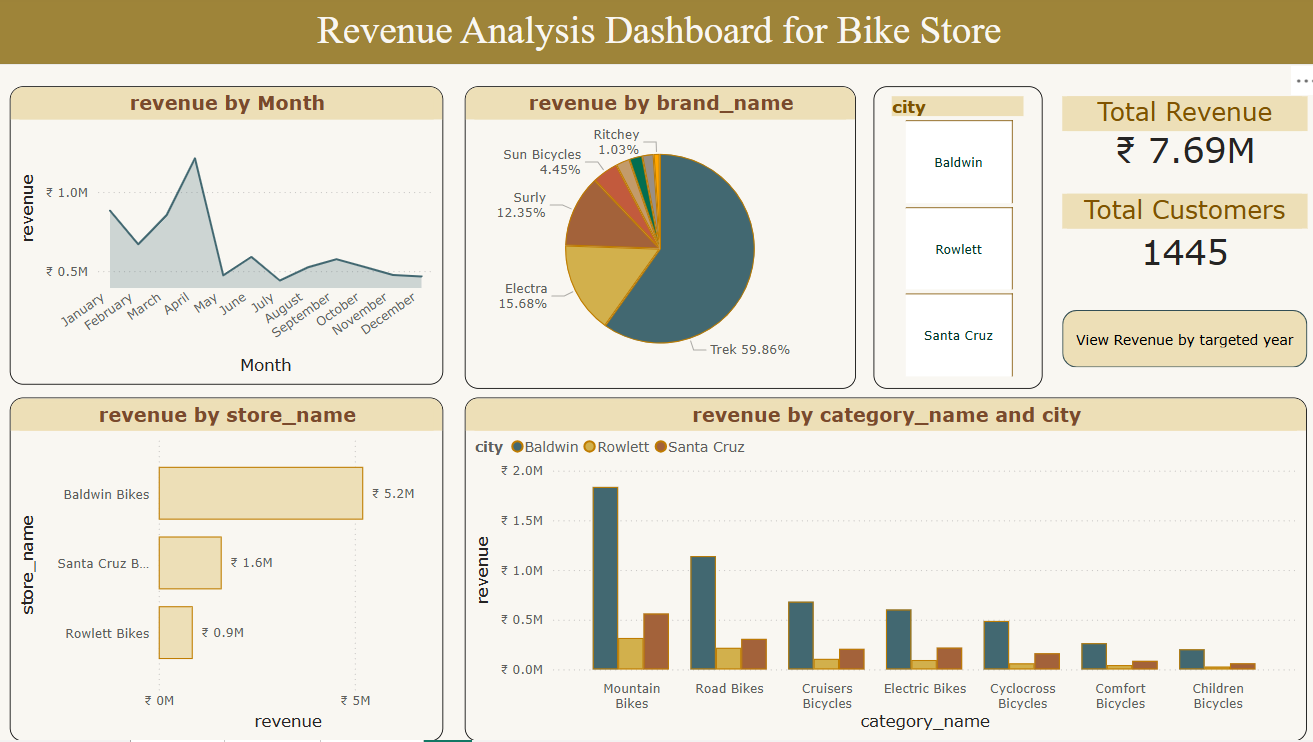

This screenshot's page, from the dashboard's own definition file:
{"tool":"powerbi","page":{"name":"Page 1","canvas":[1280,720],"ordinal":0},"visuals":[{"type":"barChart","fields":{"Y":["Table.revenue"],"Category":["store.store_name"]},"box":[13.3,388.5,418.6,331.8],"z":0},{"type":"clusteredColumnChart","fields":{"Category":["category.category_name"],"Y":["Table.revenue"],"Series":["store.city"]},"box":[452.4,388.5,813.1,331.8],"z":1000},{"type":"lineChart","fields":{"Category":["order.order_date.Variation.Date Hierarchy.Month","order.order_date.Variation.Date Hierarchy.Day"],"Y":["Table.revenue"]},"box":[13.3,88.1,418.6,288.3],"z":2000},{"type":"pieChart","fields":{"Y":["Table.revenue"],"Category":["Brands.brand_name"]},"box":[452.4,88.1,377.6,292],"z":3000},{"type":"slicer","fields":{"Values":["store.city"]},"box":[846.9,88.1,162.9,292],"z":4000},{"type":"card","title":"Total Revenue","fields":{"Values":["Table.revenue"]},"box":[1029.1,97.7,236.5,74.8],"z":5000},{"type":"card","title":"Total Customers","fields":{"Values":["Table.total_customers"]},"box":[1029.1,191.8,236.5,84.5],"z":6000},{"type":"shape","title":"Revenue view by target year","box":[1029.1,304,236.5,55.5],"z":7000},{"type":"shape","box":[0,0,1280,67.6],"z":8000}]}

Visuals, with their boxes in screenshot pixels (x1, y1, x2, y2), scaled from the page's 1280x720 canvas onto the 1313x742 screenshot:
barChart - Table.revenue x store.store_name: detection(14, 400, 443, 741)
clusteredColumnChart - category.category_name x Table.revenue: detection(464, 400, 1298, 741)
lineChart - order.order_date.Variation.Date Hierarchy.Month x order.order_date.Variation.Date Hierarchy.Day: detection(14, 91, 443, 388)
pieChart - Table.revenue x Brands.brand_name: detection(464, 91, 851, 392)
slicer - store.city: detection(869, 91, 1036, 392)
"Total Revenue" card: detection(1056, 101, 1298, 178)
"Total Customers" card: detection(1056, 198, 1298, 285)
"Revenue view by target year" shape: detection(1056, 313, 1298, 370)
shape: detection(0, 0, 1312, 70)
